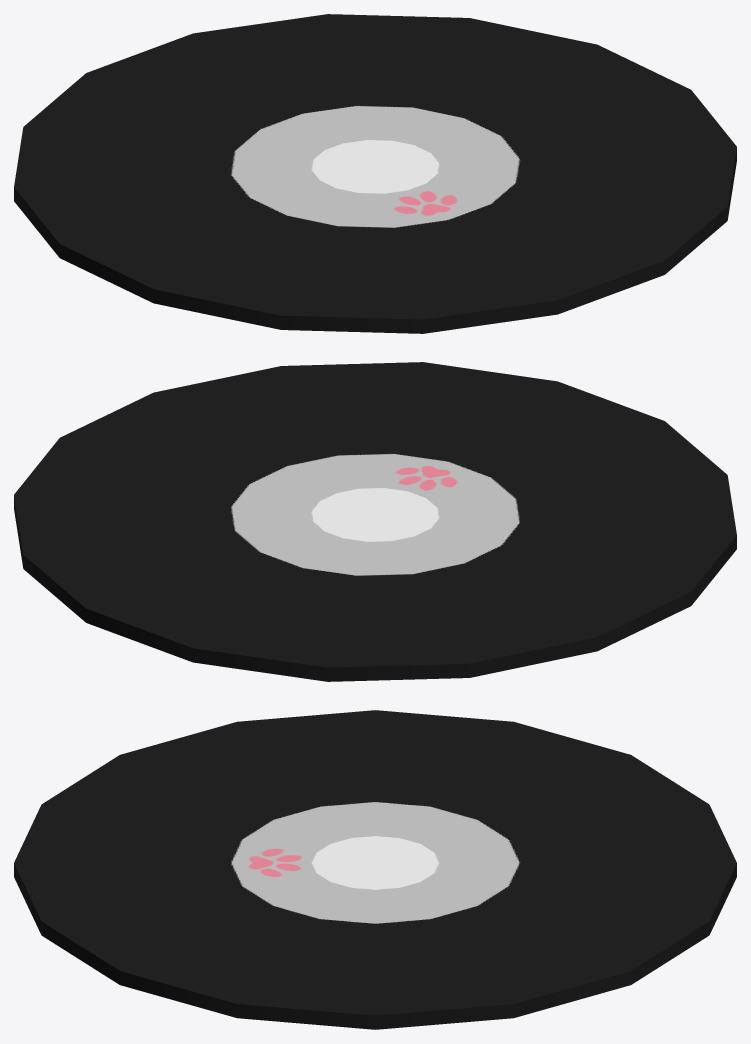
File: record.fbx
3 views of the same model, one above another, from view 1: azimuth 30°, elevation 25°; view 2: azimuth 150°, elevation 25°; view 3: azimuth 270°, elevation 25° (orthographic).
Parts seen in each view (by area): view 1: record; view 2: record; view 3: record.
Part boxes in pixels (x1,y1,x2,y2): record: (14,14,736,333); record: (14,362,736,681); record: (14,710,736,1029).
Bounding box in the file's own units: 0.2525 × 0.00545 × 0.2525.
